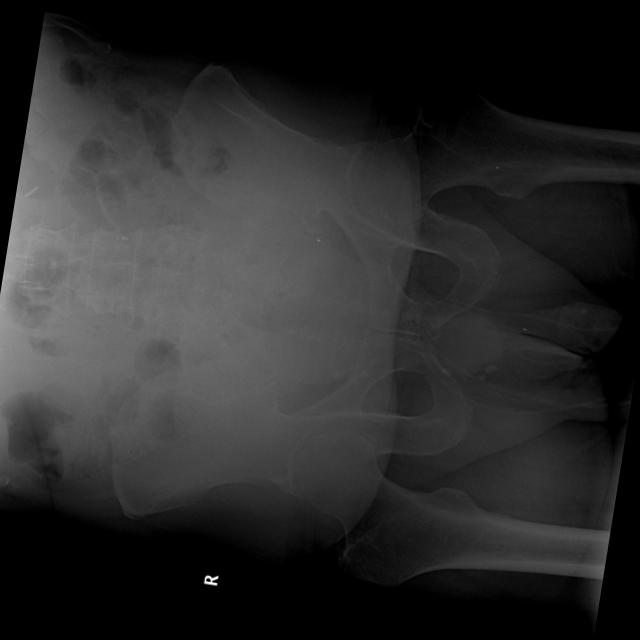normal-left: (355, 93, 637, 223)
normal-right: (294, 426, 569, 585)
